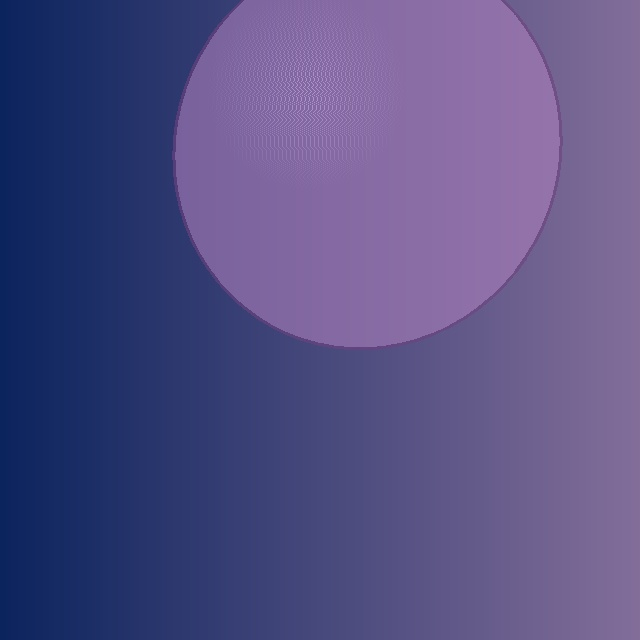lens: (174, 0, 560, 347)
